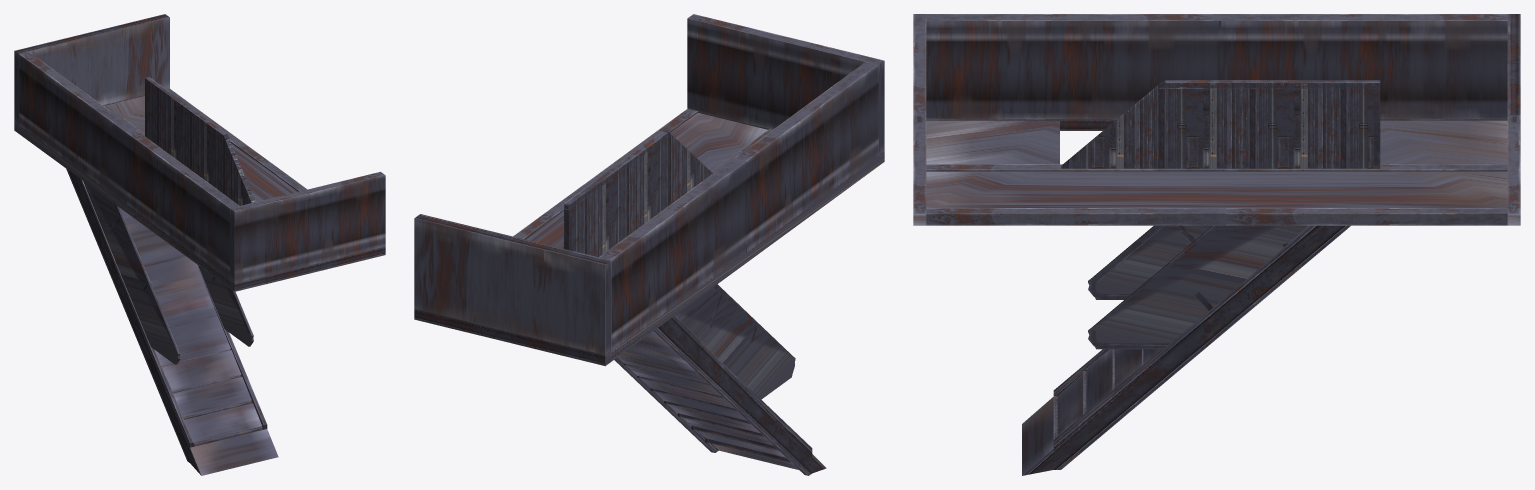
Rendered from fireEscape_middle.FBX.
3 renders of one model, left to right at view 1: azimuth 30°, elevation 25°; view 2: azimuth 150°, elevation 25°; view 3: azimuth 270°, elevation 25°, orthographic. The views are drawn at different scales.
Parts seen in each view (by area): view 1: fireEscape_middle_COL, fireEscape_middle; view 2: fireEscape_middle_COL, fireEscape_middle; view 3: fireEscape_middle_COL, fireEscape_middle.
Boxes of the visible parts, <box> form: fireEscape_middle_COL: <box>14,14,385,475</box>; fireEscape_middle: <box>14,77,385,462</box>; fireEscape_middle_COL: <box>414,14,884,473</box>; fireEscape_middle: <box>414,108,884,475</box>; fireEscape_middle_COL: <box>913,14,1520,475</box>; fireEscape_middle: <box>913,80,1520,469</box>.
Size of the model in its own units: 218 by 407 by 552.
